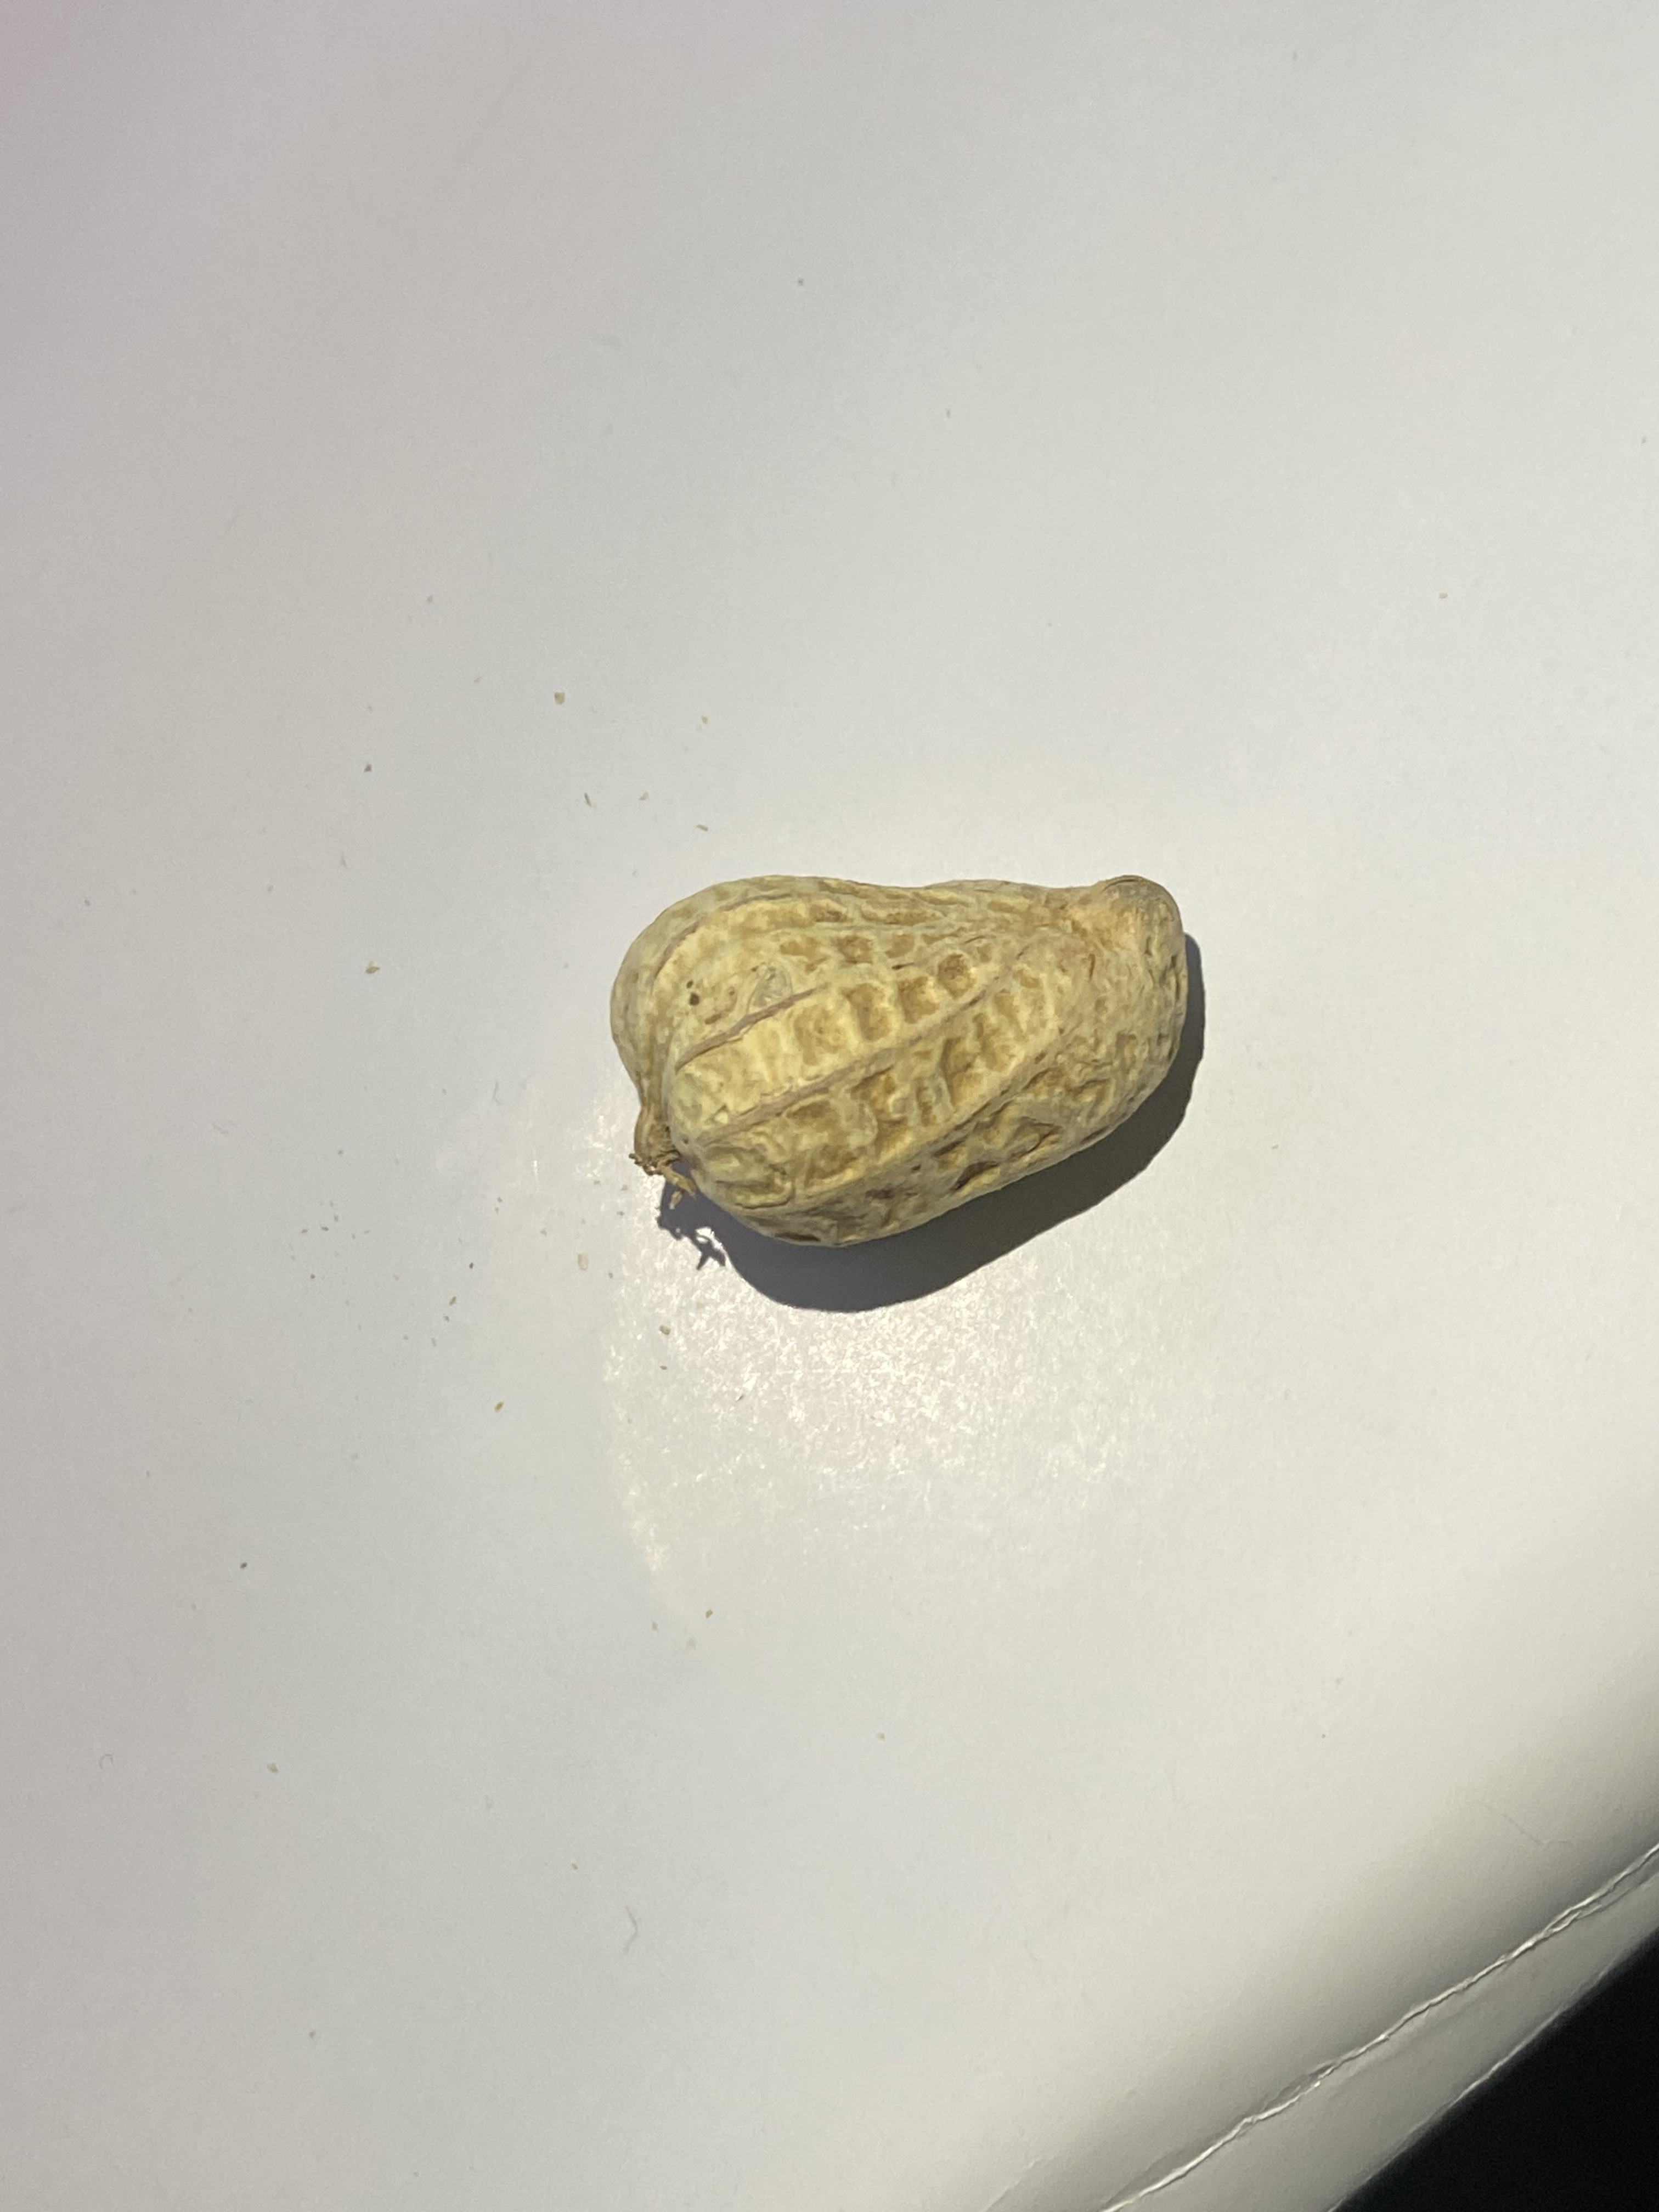kacang1: (573, 787, 1263, 1270)
